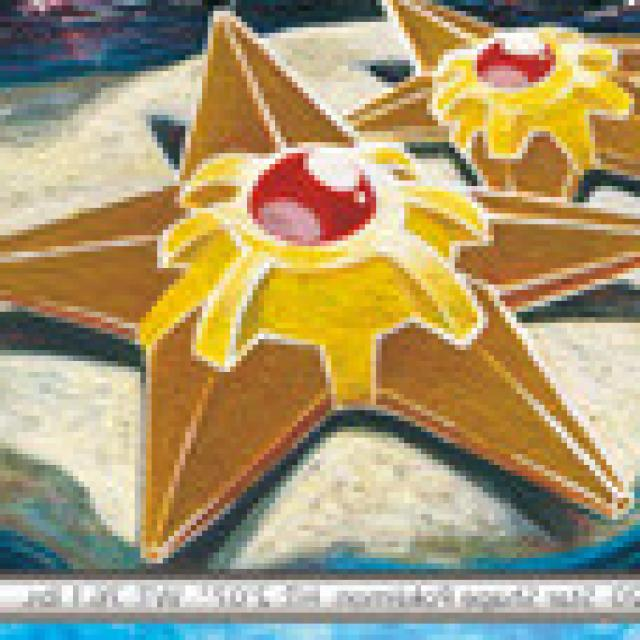Staryu: (39, 31, 588, 534), (373, 8, 633, 172)
